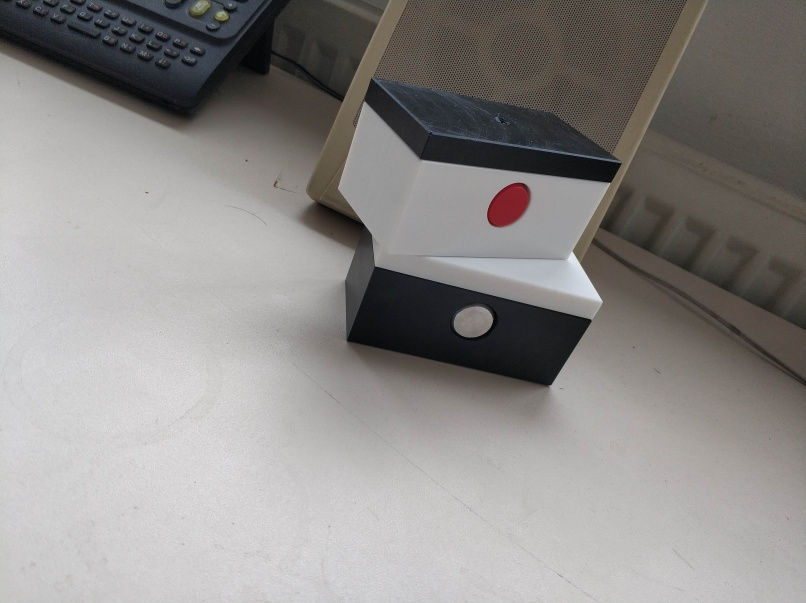black+white+red: (333, 75, 623, 264)
white+black+silver: (342, 224, 607, 389)
